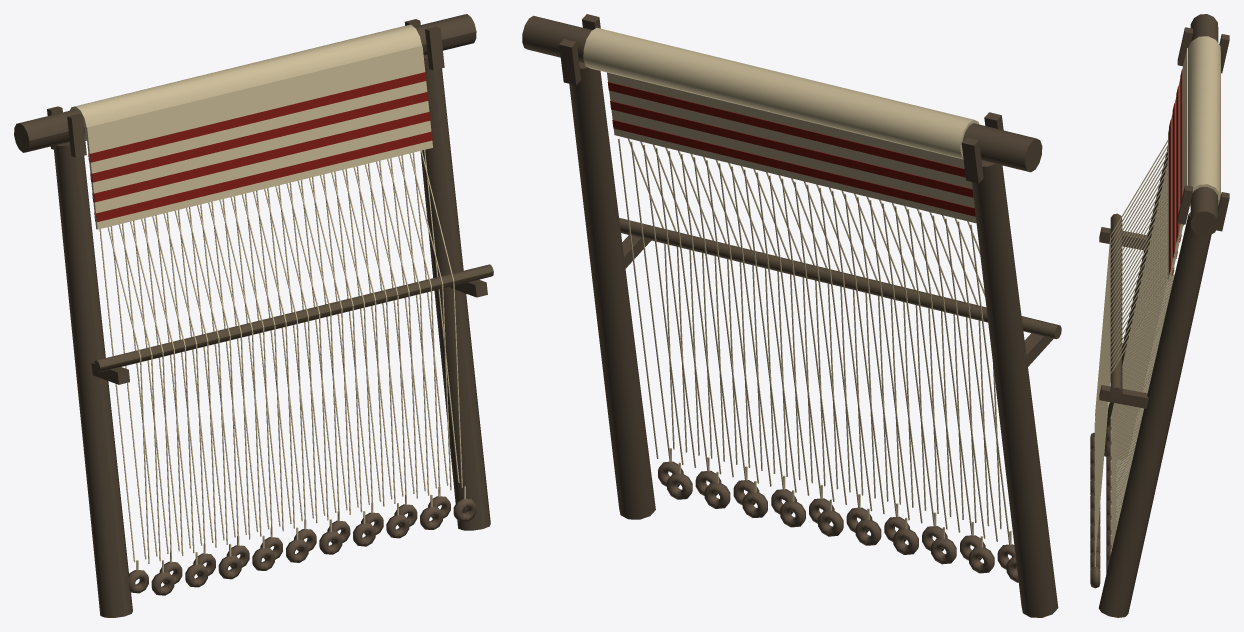
File: loom-1000.glb
3 views of the same model, side by side, from view 1: azimuth 30°, elevation 25°; view 2: azimuth 150°, elevation 25°; view 3: azimuth 270°, elevation 25° (orthographic). The views are drawn at different scales.
Visible parts, largest first — view 1: woven-cloth, post-left, post-right, cloth-roll, shed-rod, cloth-stripes.03, cloth-stripes.02, cloth-stripe-01, cloth-stripes.04, cloth-beam, post-forks-front.02, post-fork-front-01; view 2: cloth-roll, post-left, post-right, woven-cloth, shed-rod, cloth-beam, cloth-stripes.02, cloth-stripe-01, cloth-stripes.03, post-fork-back-01, post-forks-back.02, warp-back.02 (+28 smaller); view 3: post-right, cloth-roll, woven-cloth, shed-rod, cloth-beam, post-left, shed-rod-brackets.02, shed-rod-bracket-01, cloth-stripes.02, cloth-stripes.03, warp-back.28, warp-back.27 (+35 smaller).
Part boxes in pixels (box(x1,y1,x2,y2)): woven-cloth: box(86, 46, 432, 229); post-left: box(53, 142, 132, 617); post-right: box(420, 54, 490, 530); cloth-roll: box(70, 24, 421, 140); shed-rod: box(94, 264, 493, 372); cloth-stripes.03: box(90, 92, 428, 182); cloth-stripes.02: box(92, 112, 430, 202); cloth-stripe-01: box(94, 131, 432, 222); cloth-stripes.04: box(88, 72, 426, 162); cloth-beam: box(14, 14, 476, 152); post-forks-front.02: box(425, 26, 444, 70); post-fork-front-01: box(67, 113, 86, 157); cloth-roll: box(583, 27, 979, 159); post-left: box(971, 160, 1058, 617); post-right: box(569, 62, 655, 519); woven-cloth: box(607, 72, 976, 223); shed-rod: box(619, 218, 1061, 339); cloth-beam: box(522, 15, 1042, 172); cloth-stripes.02: box(610, 101, 973, 197); cloth-stripe-01: box(612, 120, 975, 216); cloth-stripes.03: box(607, 82, 965, 177); post-fork-back-01: box(961, 137, 983, 183); post-forks-back.02: box(559, 39, 581, 85); warp-back.02: box(970, 224, 1010, 544); post-right: box(1098, 212, 1211, 617); cloth-roll: box(1188, 36, 1220, 206); woven-cloth: box(1168, 48, 1187, 281); shed-rod: box(1110, 213, 1122, 397); cloth-beam: box(1190, 14, 1218, 236); post-left: box(1104, 147, 1167, 456); shed-rod-brackets.02: box(1099, 385, 1148, 408); shed-rod-bracket-01: box(1099, 227, 1148, 250); cloth-stripes.02: box(1172, 103, 1177, 258); cloth-stripes.03: box(1176, 86, 1181, 241); warp-back.28: box(1111, 269, 1174, 550); warp-back.27: box(1111, 281, 1170, 545).
Bounding box in the file's own units: 2 × 2.01 × 0.5963.
